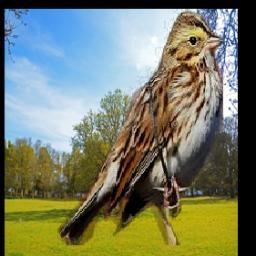Sparrow: (57, 9, 223, 245)
